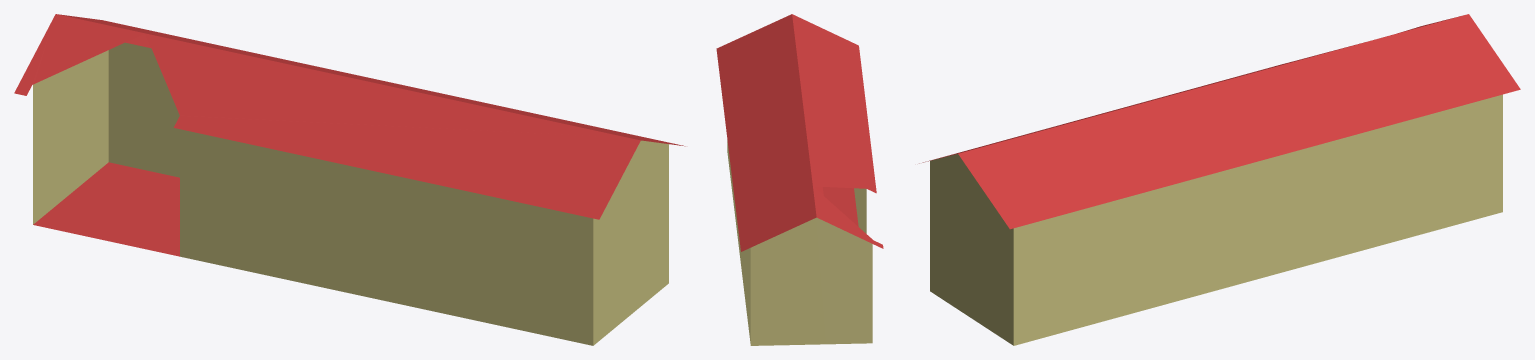
The picture shows the model from 3 angles, left to right: view 1: azimuth 30°, elevation 25°; view 2: azimuth 150°, elevation 25°; view 3: azimuth 270°, elevation 25°; orthographic projection. The views are drawn at different scales.
Size of the model in its own units: 18.55 by 23.43 by 7.04.
